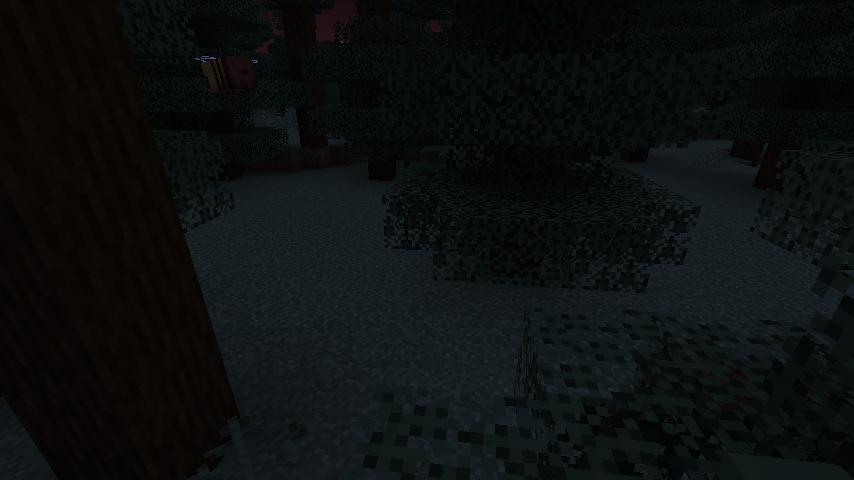bee: (194, 52, 263, 92)
